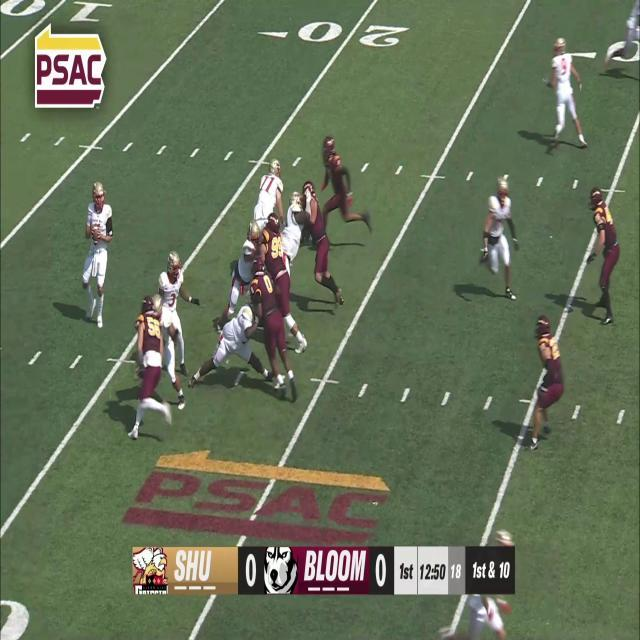football: (92, 225, 101, 248)
